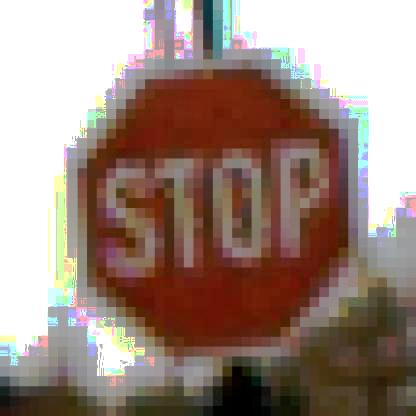Stop Sign: (69, 44, 374, 362)
